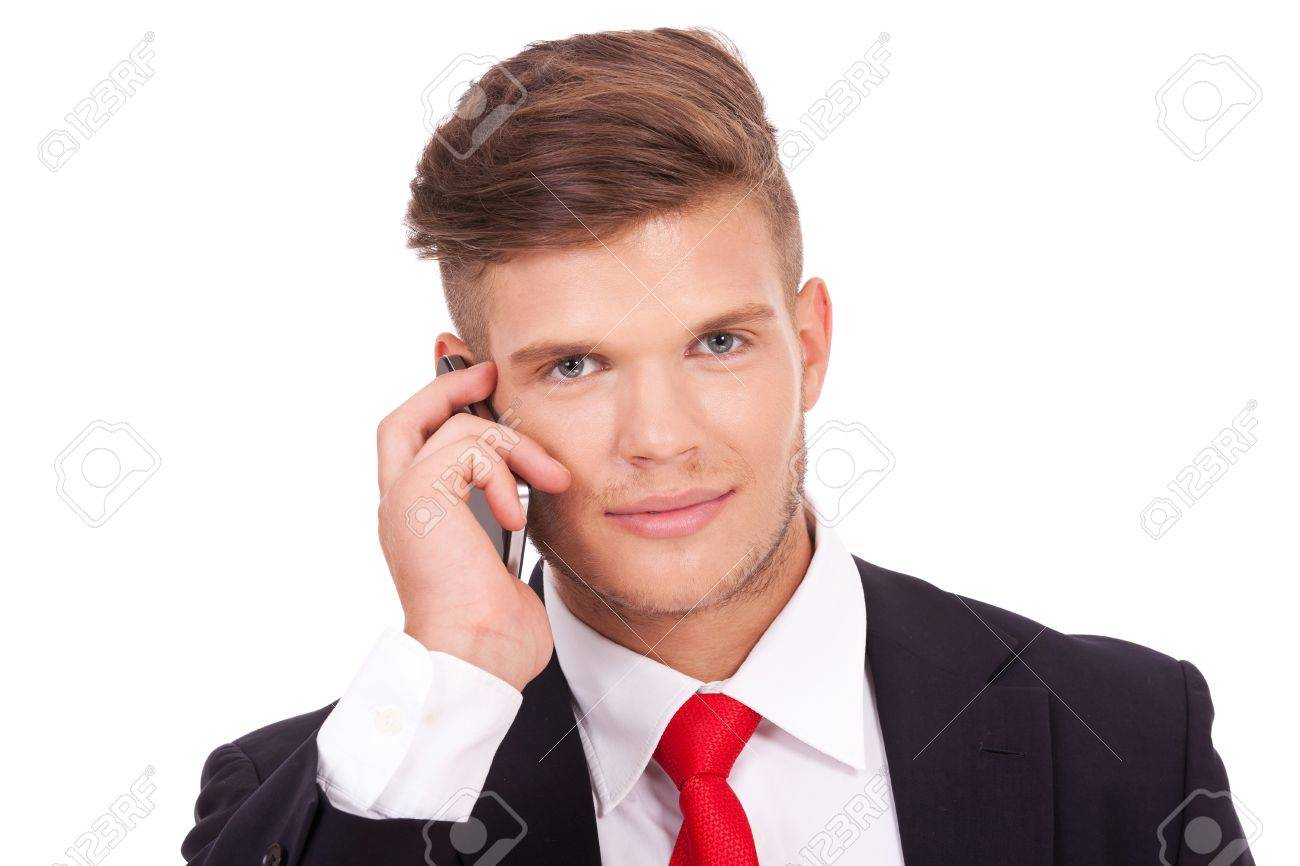phone: (372, 359, 577, 604)
talk: (380, 301, 806, 665)
